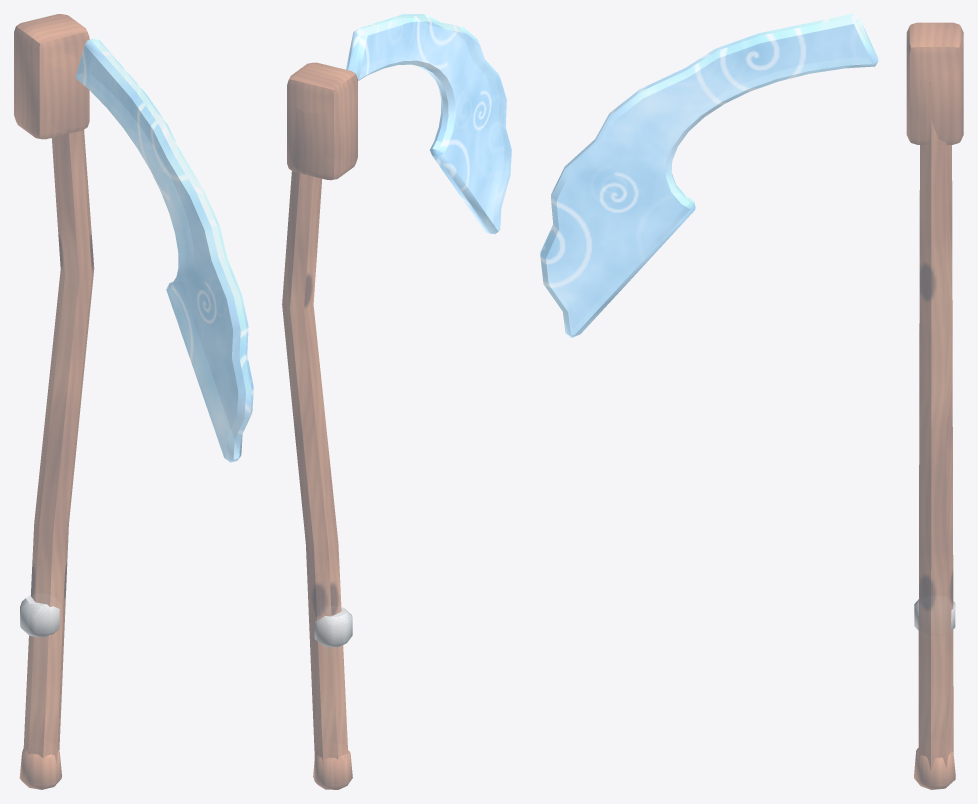
File: scythe_t1.gltf
The picture shows the model from 3 angles, left to right: view 1: azimuth 30°, elevation 25°; view 2: azimuth 150°, elevation 25°; view 3: azimuth 270°, elevation 25°; orthographic projection. The views are drawn at different scales.
Visible parts, largest first — view 1: scythe_t1_mesh; view 2: scythe_t1_mesh; view 3: scythe_t1_mesh.
Part boxes in pixels (<box>): scythe_t1_mesh: <box>14,14,253,789</box>; scythe_t1_mesh: <box>282,14,511,789</box>; scythe_t1_mesh: <box>540,14,963,789</box>.
Bounding box in the file's own units: 0.1135 × 1.2 × 0.5933.
3 materials, 3 textured.
